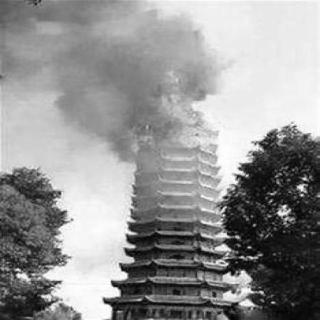Fire: (106, 65, 224, 153)
Smoke: (8, 1, 225, 123)
